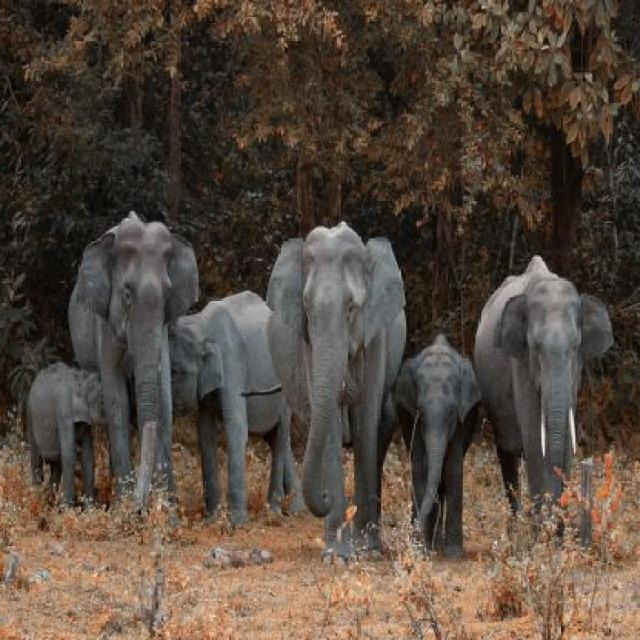Elephant: (265, 214, 409, 577), (70, 207, 207, 538), (475, 252, 616, 526), (389, 330, 488, 568)
